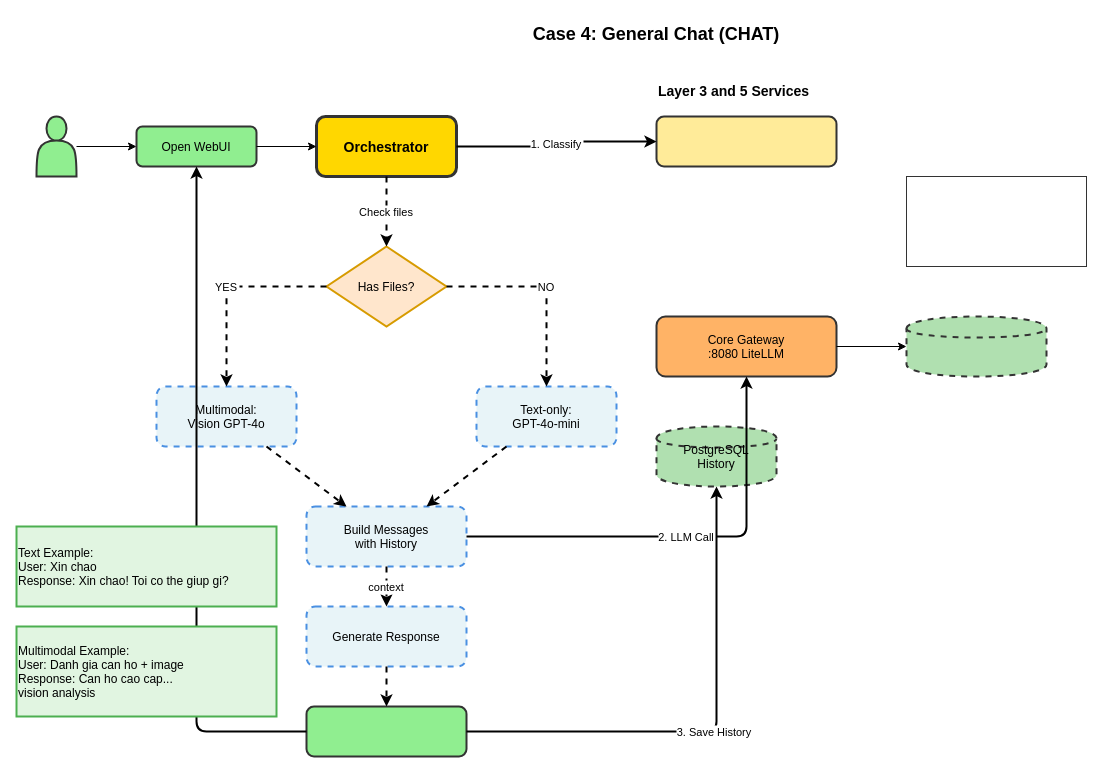
The diagram is 1103 pixels wide and 773 high, and some of its shapes have lost their labels. The box of each missing label's shape, as (x1, y1, x2, y2) in pixels:
Classification Service :8083: (655, 115, 837, 167)
GPT-4o / GPT-4o-mini: (905, 315, 1047, 377)
Legend: Solid: Service call Dashed: Internal step Decision: Has files?: (906, 176, 1086, 266)
Response: Chat answer: (305, 705, 467, 757)
USER: (35, 115, 77, 177)
